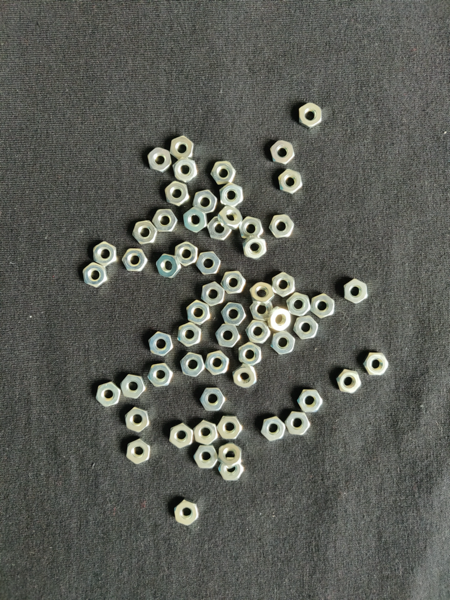nut: (175, 499, 200, 526), (126, 438, 151, 465), (216, 415, 243, 440), (169, 423, 194, 449), (125, 407, 150, 433), (96, 382, 121, 408), (121, 374, 147, 399), (148, 363, 174, 388), (267, 306, 292, 332), (93, 241, 118, 267), (173, 157, 198, 183), (269, 214, 296, 238), (261, 417, 286, 442), (194, 421, 219, 446), (205, 351, 230, 376), (149, 332, 174, 357), (271, 330, 296, 355), (201, 282, 226, 307), (250, 282, 275, 307), (83, 263, 108, 288), (218, 206, 243, 231), (211, 161, 236, 186), (278, 170, 303, 195), (271, 140, 296, 165), (285, 412, 311, 436), (200, 388, 226, 412), (336, 370, 362, 394), (181, 352, 205, 378), (178, 322, 202, 348), (215, 324, 241, 348), (293, 316, 319, 340), (187, 300, 211, 326), (156, 254, 182, 278), (132, 221, 158, 245), (165, 181, 189, 207), (148, 148, 172, 174), (219, 443, 242, 470), (184, 207, 207, 234), (194, 445, 219, 469), (233, 364, 257, 389), (311, 294, 335, 319), (344, 279, 368, 304), (221, 271, 246, 295), (153, 209, 178, 233), (122, 249, 148, 272), (300, 103, 323, 129), (287, 293, 311, 317), (243, 236, 267, 260), (208, 217, 232, 241), (170, 136, 194, 160), (298, 390, 323, 413), (364, 353, 389, 376), (239, 342, 262, 367), (246, 321, 271, 344), (222, 303, 247, 326), (273, 273, 296, 298), (196, 252, 221, 275), (175, 242, 198, 267), (193, 190, 218, 213), (220, 183, 243, 208), (238, 217, 264, 239), (219, 464, 245, 482), (250, 302, 274, 321)
